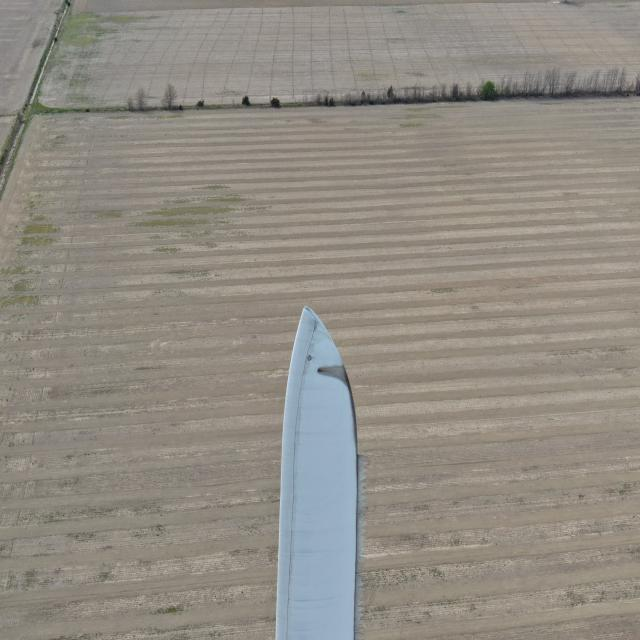damage: (316, 361, 352, 388)
